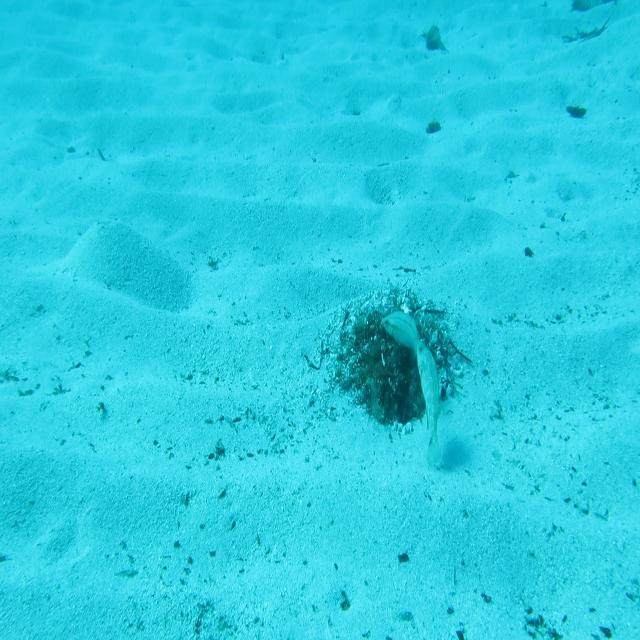GB: (412, 331, 448, 473)
female: (377, 306, 423, 362)
nest: (336, 288, 462, 450)
